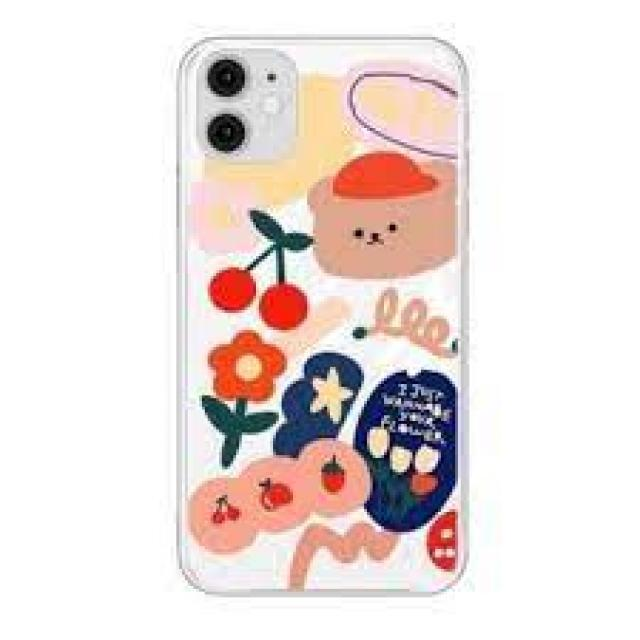phone: (170, 36, 471, 594)
